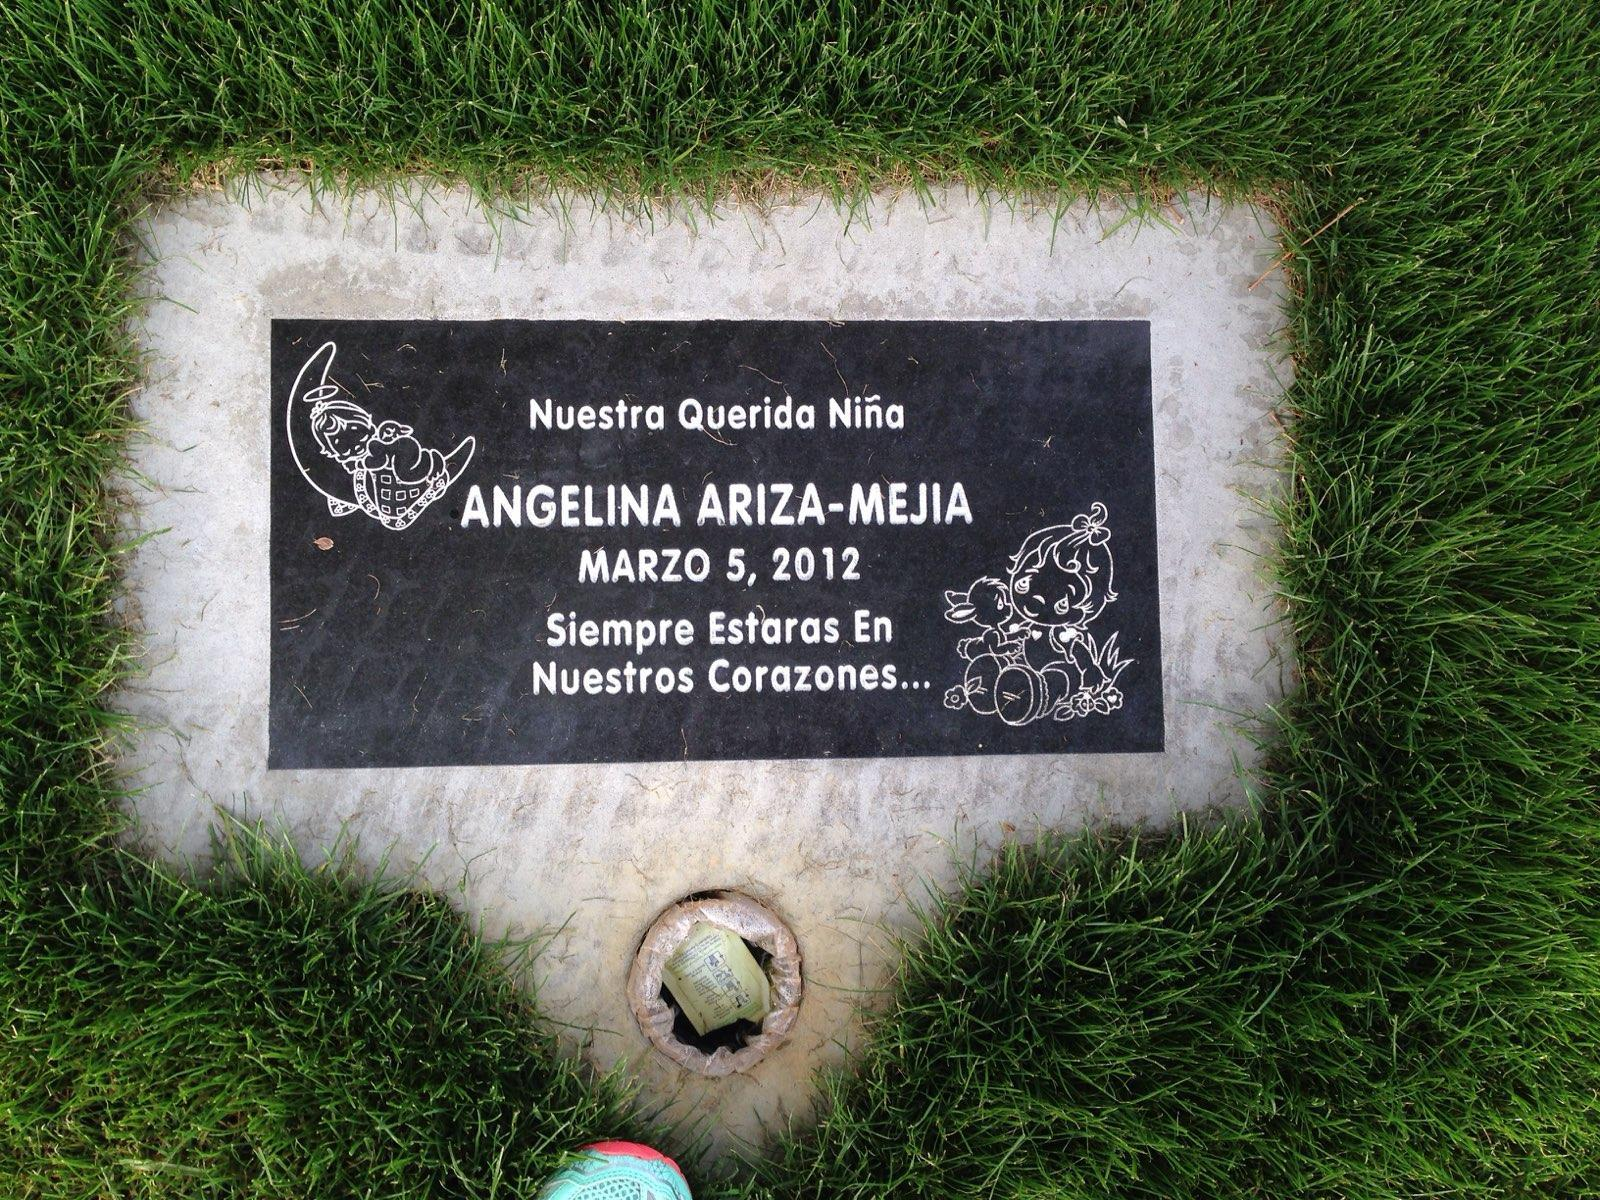flat: (146, 182, 1281, 1099)
